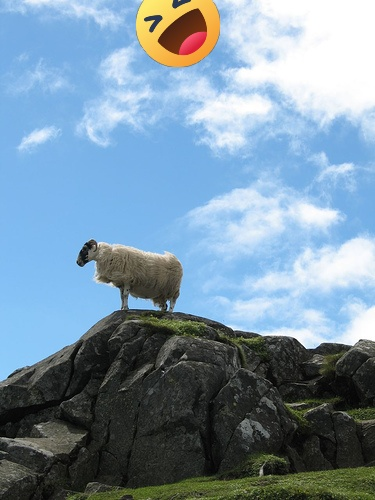haha: (136, 0, 220, 67)
